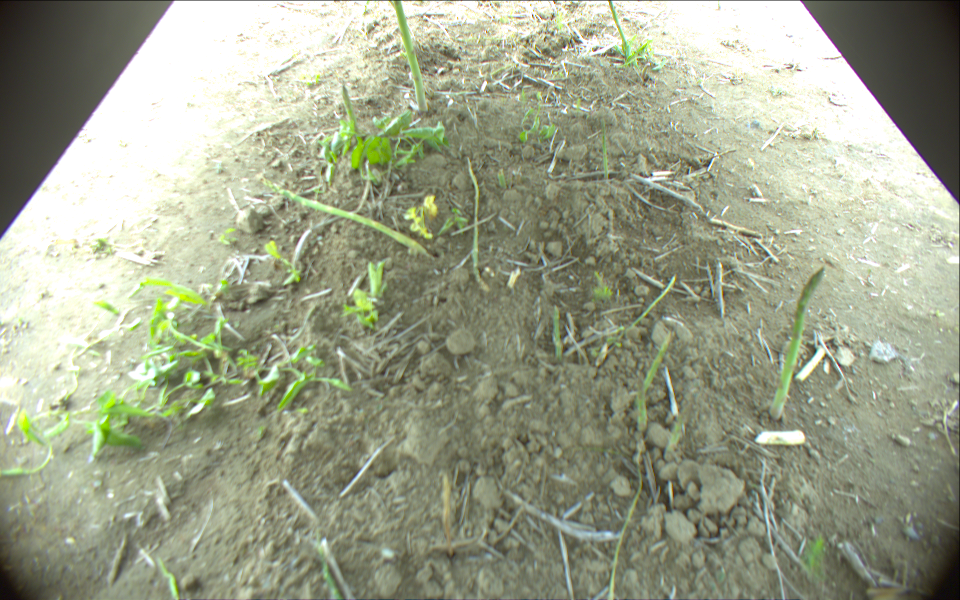aspa: (255, 174, 427, 255), (766, 263, 826, 418), (391, 1, 429, 112), (466, 158, 489, 292), (642, 329, 673, 394), (663, 401, 691, 455), (607, 1, 632, 58), (341, 85, 359, 134), (636, 373, 646, 436), (550, 303, 562, 355), (600, 118, 610, 180), (496, 168, 507, 189)
